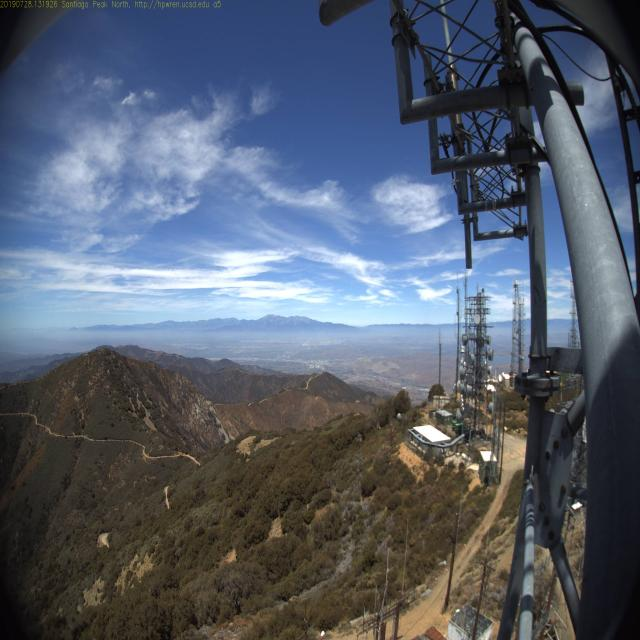smoke: (138, 330, 153, 348)
